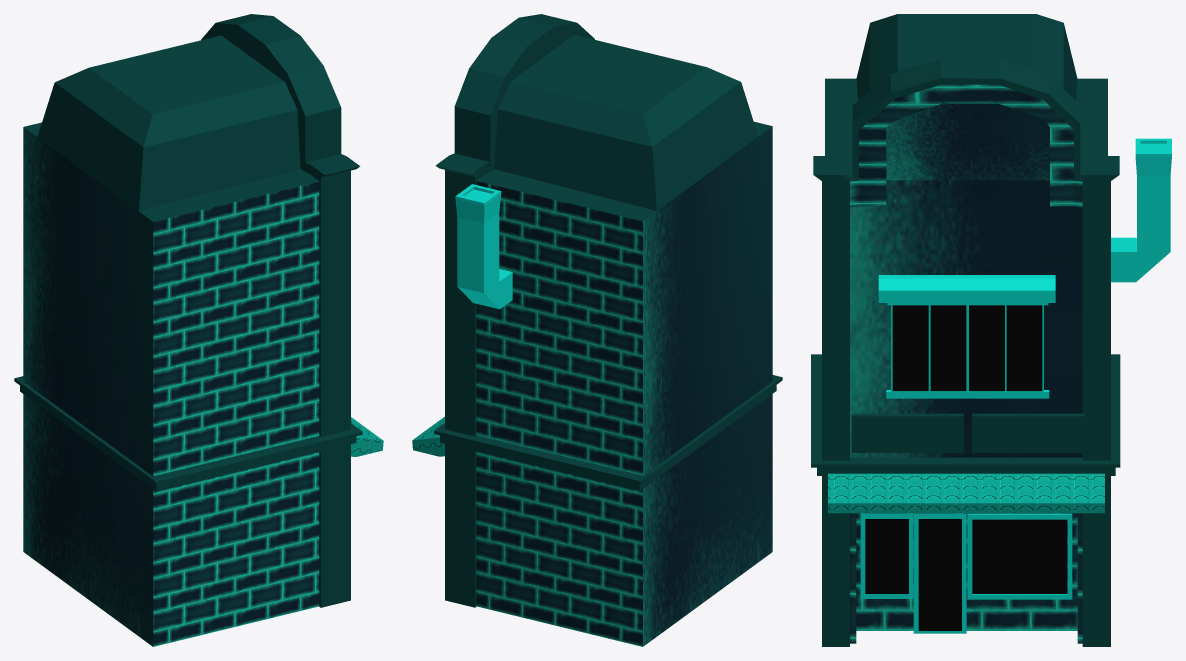
File: building5.fbx
3 views of the same model, side by side, from view 1: azimuth 30°, elevation 25°; view 2: azimuth 150°, elevation 25°; view 3: azimuth 270°, elevation 25° (orthographic). The views are drawn at different scales.
Visible parts, largest first — view 1: Cube.050, Cube.052, Cube.060, Cube.051; view 2: Cube.050, Cube.052, Cube.047, Cube.060, Cube.051; view 3: Cube.050, Cube.052, Cube.072, Cube.051, Cube.060, Cube.068, Cube.047, Cube.061, Cube.070, Cube.057, Cube.058, Cube.071 (+4 smaller).
Part boxes in pixels (left/top/right/bottom): Cube.050: left=23, top=35, right=319, bottom=646; Cube.052: left=201, top=14, right=360, bottom=607; Cube.060: left=14, top=376, right=362, bottom=491; Cube.051: left=351, top=417, right=383, bottom=456; Cube.050: left=476, top=35, right=772, bottom=646; Cube.052: left=435, top=14, right=594, bottom=607; Cube.047: left=455, top=184, right=512, bottom=309; Cube.060: left=434, top=375, right=782, bottom=490; Cube.051: left=412, top=416, right=444, bottom=456; Cube.050: left=825, top=14, right=1107, bottom=643; Cube.052: left=813, top=59, right=1119, bottom=646; Cube.072: left=892, top=305, right=1042, bottom=391; Cube.051: left=828, top=473, right=1104, bottom=513; Cube.060: left=811, top=354, right=1120, bottom=475; Cube.068: left=972, top=519, right=1067, bottom=593; Cube.047: left=1111, top=138, right=1171, bottom=282; Cube.061: left=878, top=275, right=1055, bottom=302; Cube.070: left=918, top=519, right=961, bottom=630; Cube.057: left=851, top=413, right=963, bottom=452; Cube.058: left=972, top=413, right=1084, bottom=452; Cube.071: left=865, top=519, right=908, bottom=593.
Bounding box in the file's own units: 1761 × 3759 × 2146.
